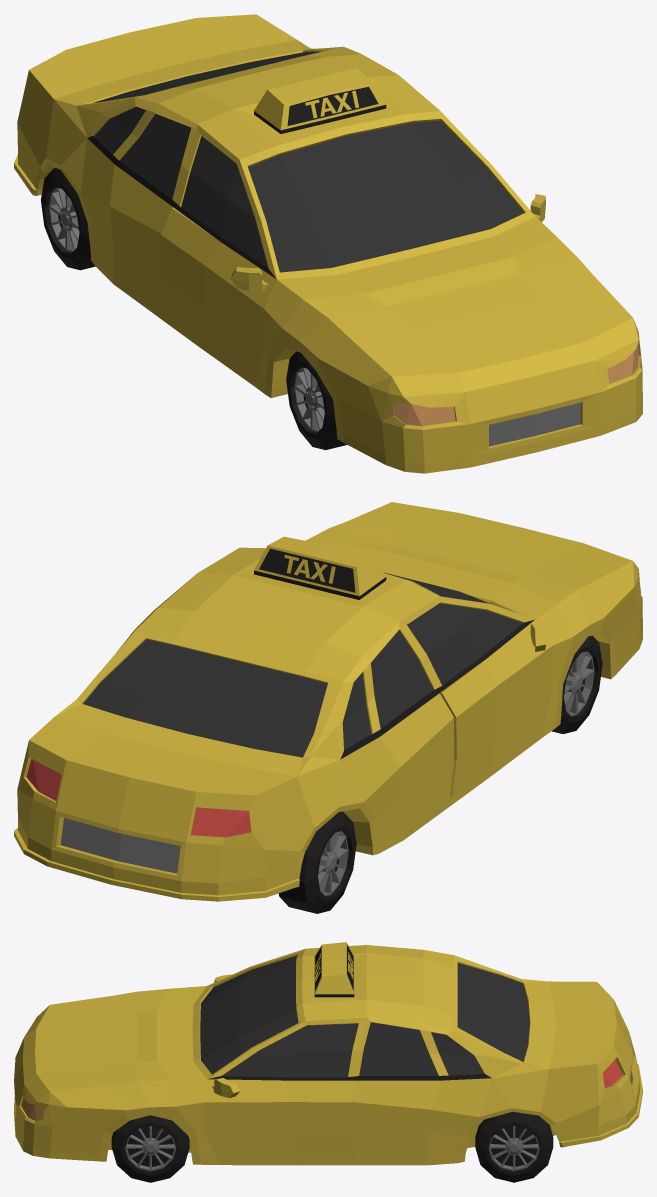
The model's file is q-taxi-x43losctpn.glb.
3 renders of one model, top to bottom at view 1: azimuth 30°, elevation 25°; view 2: azimuth 150°, elevation 25°; view 3: azimuth 270°, elevation 25°, orthographic. The views are drawn at different scales.
Parts seen in each view (by area): view 1: Taxi_Cube.009, Taxi_BackWheels_Cube.010, Taxi_FrontRightWheel_Cube.014; view 2: Taxi_Cube.009, Taxi_BackWheels_Cube.010, Taxi_FrontRightWheel_Cube.014; view 3: Taxi_Cube.009, Taxi_BackWheels_Cube.010, Taxi_FrontLeftWheel_Cube.013.
Part boxes in pixels (x1,y1,x2,y2): Taxi_Cube.009: [14, 14, 642, 473]; Taxi_BackWheels_Cube.010: [41, 168, 95, 270]; Taxi_FrontRightWheel_Cube.014: [286, 351, 346, 450]; Taxi_Cube.009: [14, 502, 642, 901]; Taxi_BackWheels_Cube.010: [278, 811, 356, 913]; Taxi_FrontRightWheel_Cube.014: [552, 635, 602, 733]; Taxi_Cube.009: [14, 942, 642, 1165]; Taxi_BackWheels_Cube.010: [475, 1111, 553, 1182]; Taxi_FrontLeftWheel_Cube.013: [111, 1115, 189, 1182].
Bounding box in the file's own units: 1.81 × 1.31 × 4.22.
